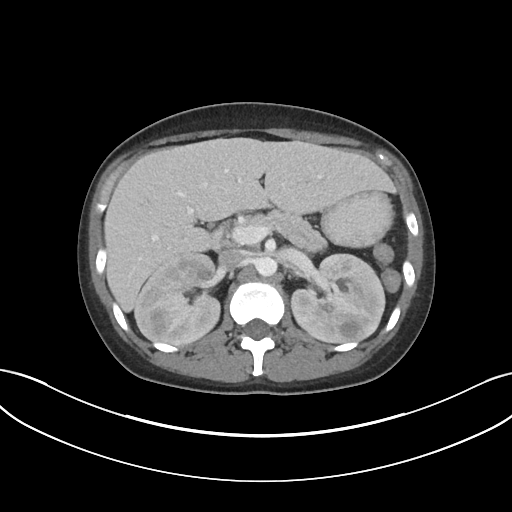Lesion: (130, 251, 222, 349)
